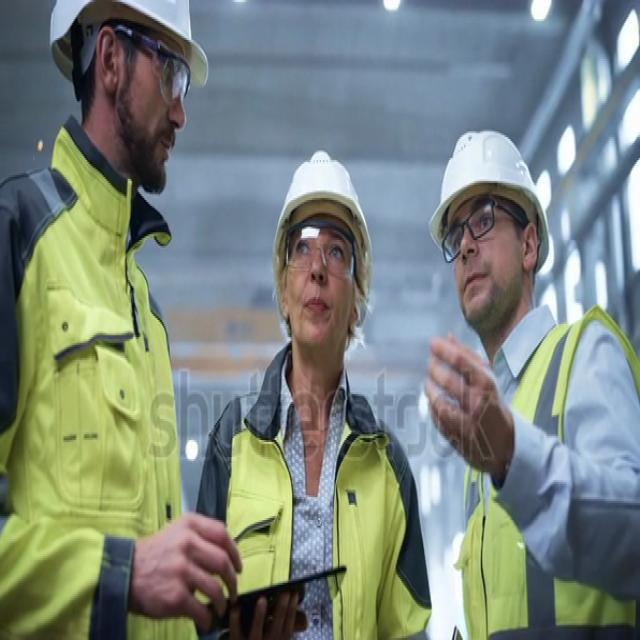Glasses: (111, 15, 190, 117), (442, 194, 526, 266), (283, 224, 358, 280)
Helmet: (44, 0, 215, 89), (430, 129, 554, 247), (275, 151, 376, 274)
Vest: (0, 156, 186, 640), (197, 371, 426, 640), (460, 306, 640, 640)
